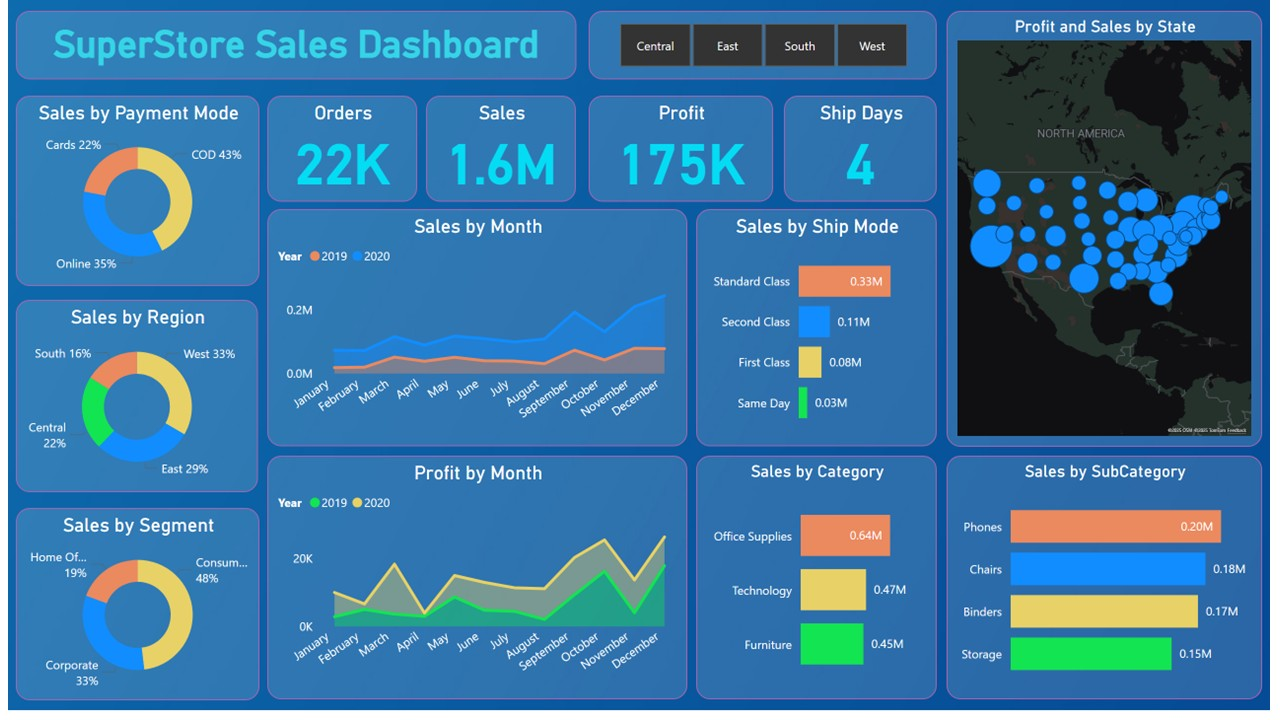

Layout of this report page (visuals, bound fields, positions):
{"tool":"powerbi","page":{"name":"SuperStore Dashboard","canvas":[1280,720],"ordinal":0},"visuals":[{"type":"clusteredBarChart","title":"Sales by Category","fields":{"Category":["SuperStore_Sales_Dataset.Category"],"Y":["Sum(SuperStore_Sales_Dataset.Sales)"]},"box":[698.5,462.5,243.9,247.1],"z":0},{"type":"clusteredBarChart","title":"Sales by SubCategory","fields":{"Y":["Sum(SuperStore_Sales_Dataset.Sales)"],"Category":["SuperStore_Sales_Dataset.Sub-Category"]},"box":[951.9,462.5,319.9,247.1],"z":1000},{"type":"clusteredBarChart","title":"Sales by Ship Mode","fields":{"Y":["Sum(SuperStore_Sales_Dataset.Sales)"],"Category":["SuperStore_Sales_Dataset.Ship Mode"]},"box":[698.5,212.2,243.9,240.7],"z":2000},{"type":"stackedAreaChart","title":"Sales by Month","fields":{"Category":["SuperStore_Sales_Dataset.Order Date.Variation.Date Hierarchy.Month","SuperStore_Sales_Dataset.Order Date.Variation.Date Hierarchy.Day"],"Y":["Sum(SuperStore_Sales_Dataset.Sales)"],"Series":["SuperStore_Sales_Dataset.Order Date.Variation.Date Hierarchy.Year"]},"box":[262.9,212.2,426,240.7],"z":3000},{"type":"stackedAreaChart","title":"Profit by Month","fields":{"Series":["SuperStore_Sales_Dataset.Order Date.Variation.Date Hierarchy.Year"],"Y":["Sum(SuperStore_Sales_Dataset.Profit)"],"Category":["SuperStore_Sales_Dataset.Order Date.Variation.Date Hierarchy.Month","SuperStore_Sales_Dataset.Order Date.Variation.Date Hierarchy.Day"]},"box":[262.9,462.5,426,247.1],"z":4000},{"type":"azureMap","title":"Profit and Sales by State","fields":{"Category":["SuperStore_Sales_Dataset.State"],"Size":["Sum(SuperStore_Sales_Dataset.Sales)"]},"box":[951.9,11.1,319.9,441.9],"z":5000},{"type":"donutChart","title":"Sales by Segment","fields":{"Category":["SuperStore_Sales_Dataset.Segment"],"Y":["Sum(SuperStore_Sales_Dataset.Sales)"]},"box":[7.9,514.7,247.1,194.8],"z":6000},{"type":"donutChart","title":"Sales by Payment Mode","fields":{"Category":["SuperStore_Sales_Dataset.Payment Mode"],"Y":["Sum(SuperStore_Sales_Dataset.Sales)"]},"box":[7.9,96.6,247.1,193.2],"z":7000},{"type":"textbox","box":[7.9,11.1,568.6,69.7],"z":8000},{"type":"donutChart","title":"Sales by Region","fields":{"Category":["SuperStore_Sales_Dataset.Region"],"Y":["Sum(SuperStore_Sales_Dataset.Sales)"]},"box":[7.9,304.1,245.5,194.8],"z":9000},{"type":"slicer","fields":{"Values":["SuperStore_Sales_Dataset.Region"]},"box":[589.2,11.1,353.2,69.7],"z":10000},{"type":"card","title":"Ship Days","fields":{"Values":["Avg(SuperStore_Sales_Dataset.AvgDelivery)"]},"box":[787.1,96.6,155.2,107.7],"z":11000},{"type":"card","title":"Profit","fields":{"Values":["Sum(SuperStore_Sales_Dataset.Profit)"]},"box":[589.2,96.6,186.9,107.7],"z":12000},{"type":"card","title":"Orders","fields":{"Values":["Sum(SuperStore_Sales_Dataset.Quantity)"]},"box":[262.9,96.6,152,107.7],"z":13000},{"type":"card","title":"Sales","fields":{"Values":["Sum(SuperStore_Sales_Dataset.Sales)"]},"box":[424.5,96.6,152,107.7],"z":14000}]}

Visuals, with their boxes in screenshot pixels (x1, y1, x2, y2), scaled from the page's 1280x720 canvas onto the 1280x720 screenshot:
"Sales by Category" clusteredBarChart: {"x1": 698, "y1": 462, "x2": 942, "y2": 710}
"Sales by SubCategory" clusteredBarChart: {"x1": 952, "y1": 462, "x2": 1272, "y2": 710}
"Sales by Ship Mode" clusteredBarChart: {"x1": 698, "y1": 212, "x2": 942, "y2": 453}
"Sales by Month" stackedAreaChart: {"x1": 263, "y1": 212, "x2": 689, "y2": 453}
"Profit by Month" stackedAreaChart: {"x1": 263, "y1": 462, "x2": 689, "y2": 710}
"Profit and Sales by State" azureMap: {"x1": 952, "y1": 11, "x2": 1272, "y2": 453}
"Sales by Segment" donutChart: {"x1": 8, "y1": 515, "x2": 255, "y2": 710}
"Sales by Payment Mode" donutChart: {"x1": 8, "y1": 97, "x2": 255, "y2": 290}
textbox: {"x1": 8, "y1": 11, "x2": 576, "y2": 81}
"Sales by Region" donutChart: {"x1": 8, "y1": 304, "x2": 253, "y2": 499}
slicer - SuperStore_Sales_Dataset.Region: {"x1": 589, "y1": 11, "x2": 942, "y2": 81}
"Ship Days" card: {"x1": 787, "y1": 97, "x2": 942, "y2": 204}
"Profit" card: {"x1": 589, "y1": 97, "x2": 776, "y2": 204}
"Orders" card: {"x1": 263, "y1": 97, "x2": 415, "y2": 204}
"Sales" card: {"x1": 424, "y1": 97, "x2": 576, "y2": 204}
